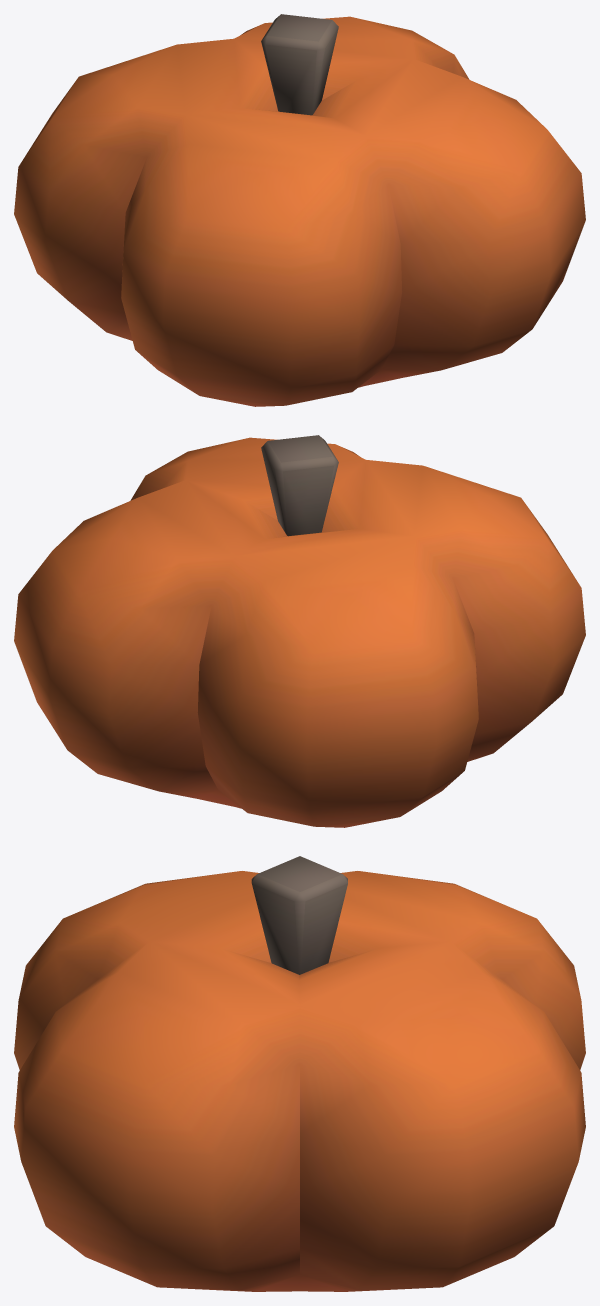
File: pumpkin.glb
The picture shows the model from 3 angles, top to bottom: view 1: azimuth 30°, elevation 25°; view 2: azimuth 150°, elevation 25°; view 3: azimuth 270°, elevation 25°; orthographic projection. The views are drawn at different scales.
Visible parts, largest first — view 1: pumpkin_orange; view 2: pumpkin_orange; view 3: pumpkin_orange.
Boxes of the visible parts, left/top/right/bottom form: pumpkin_orange: left=14, top=14, right=585, bottom=406; pumpkin_orange: left=14, top=435, right=585, bottom=827; pumpkin_orange: left=14, top=856, right=585, bottom=1291.
Bounding box in the file's own units: 1 × 0.7 × 1.
Materials: 1 (1 with a texture image).
